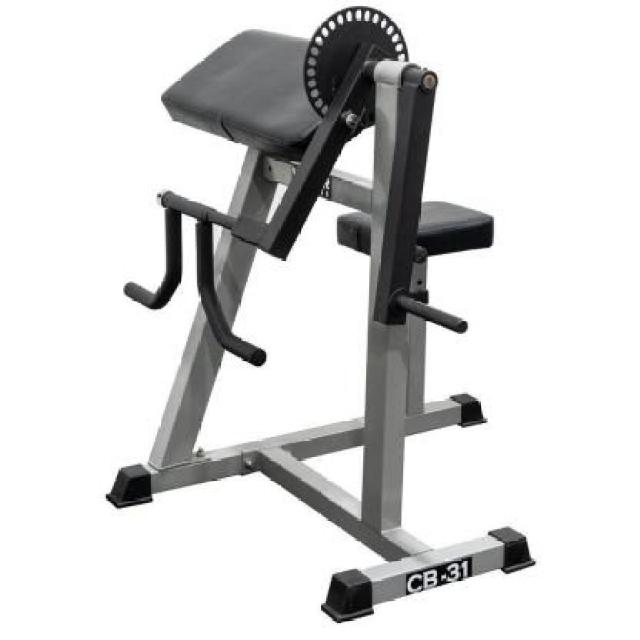arm curl machine: (111, 6, 538, 622)
